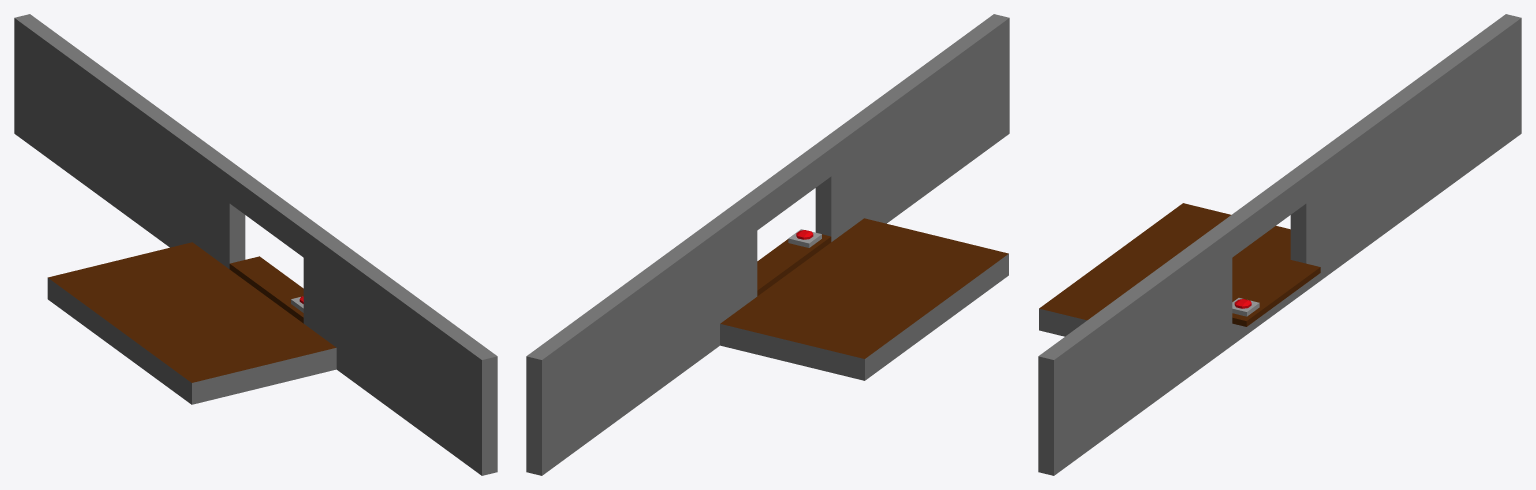
Rendered from BackWall.fbx.
3 views of the same model, side by side, from view 1: azimuth 30°, elevation 25°; view 2: azimuth 150°, elevation 25°; view 3: azimuth 330°, elevation 25° (orthographic).
Parts seen in each view (by area): view 1: Wall; view 2: Wall; view 3: Wall.
Part boxes in pixels (x1,y1,x2,y2): Wall: (14,14,497,475); Wall: (526,14,1009,475); Wall: (1038,14,1521,475).
Size of the model in its own units: 1115 by 707 by 5171.
